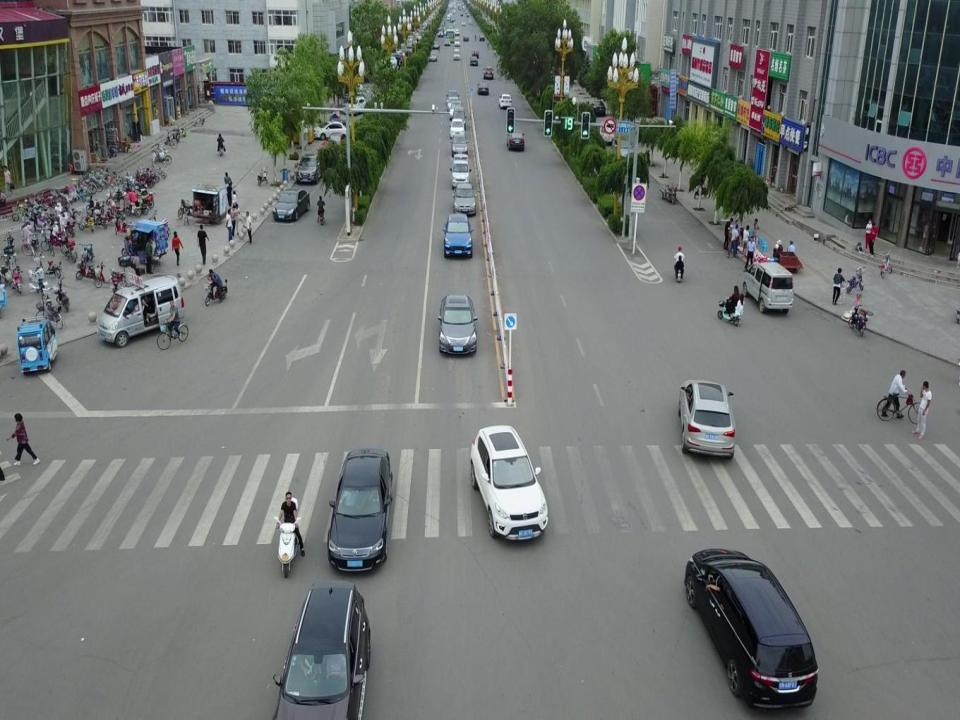car: (684, 550, 817, 708), (469, 428, 548, 539), (329, 451, 393, 571), (678, 380, 736, 462), (438, 295, 478, 353), (442, 212, 474, 260), (273, 189, 311, 223), (452, 180, 478, 217), (296, 152, 320, 182), (312, 122, 348, 140), (448, 118, 467, 138), (343, 97, 364, 115), (507, 129, 524, 150), (451, 136, 469, 154), (445, 88, 461, 108), (451, 108, 466, 127), (449, 100, 464, 118), (481, 66, 495, 81), (499, 93, 513, 108), (476, 80, 489, 95), (430, 38, 440, 50), (470, 55, 478, 67), (429, 54, 438, 63), (444, 38, 453, 46), (478, 36, 485, 44), (462, 36, 470, 42)
van: (98, 275, 183, 346), (742, 261, 794, 317), (16, 321, 59, 374), (452, 48, 460, 60), (453, 38, 461, 50)
